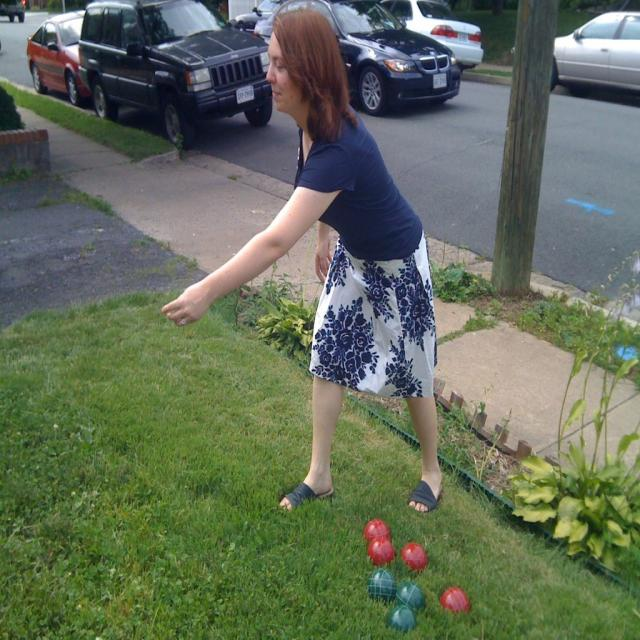car: (78, 0, 270, 153)
